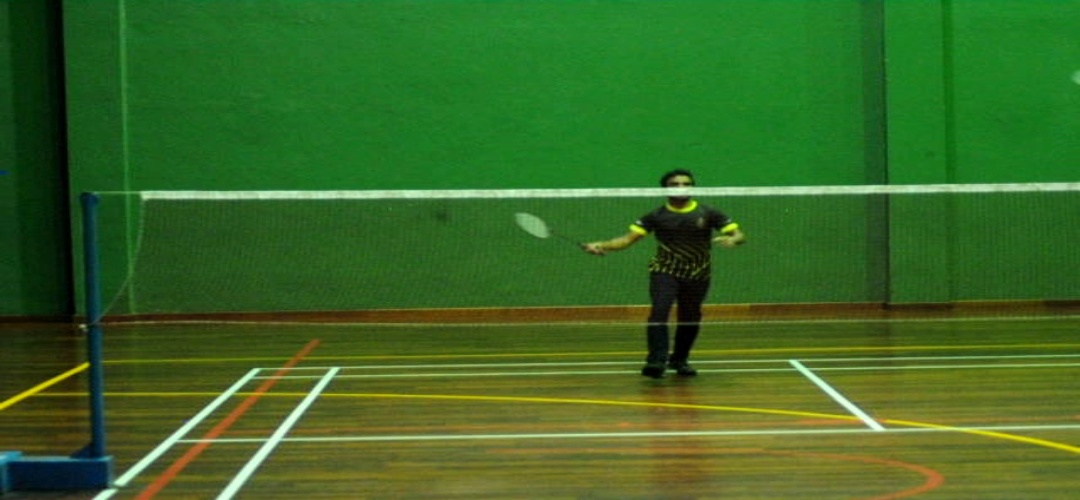c1: (266, 430, 286, 452)
c2: (855, 424, 902, 436)
player: (586, 169, 744, 384)
shuttle: (1066, 64, 1080, 92)
